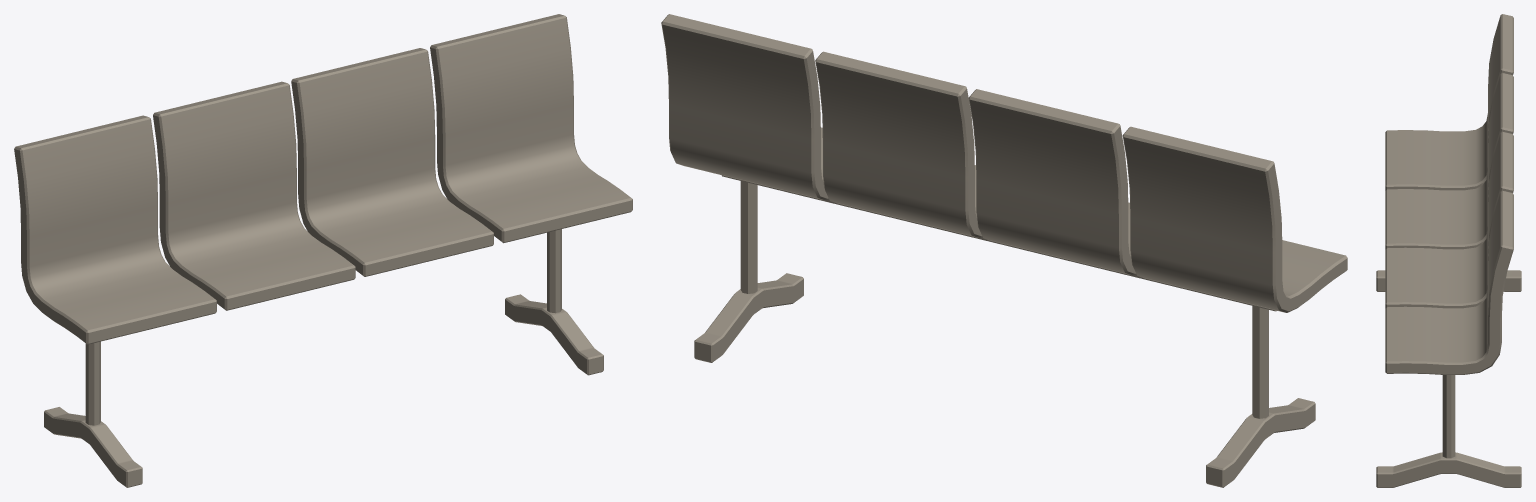
File: hubBench.fbx
The picture shows the model from 3 angles, left to right: view 1: azimuth 30°, elevation 25°; view 2: azimuth 150°, elevation 25°; view 3: azimuth 270°, elevation 25°; orthographic projection. The views are drawn at different scales.
Parts seen in each view (by area): view 1: chairs, base; view 2: chairs, base; view 3: chairs, base.
Part boxes in pixels (x1,y1,x2,y2): chairs: [14, 14, 632, 344]; base: [44, 229, 603, 487]; chairs: [661, 14, 1347, 312]; base: [694, 175, 1315, 487]; chairs: [1385, 14, 1513, 374]; base: [1376, 270, 1521, 487].
Bounding box in the file's own units: 119 × 61.23 × 31.32.
